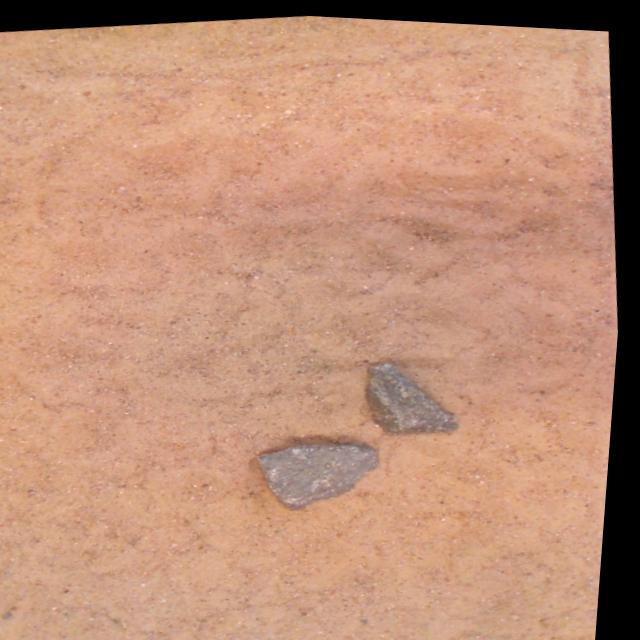rock: (264, 439, 382, 506), (370, 358, 462, 429)
